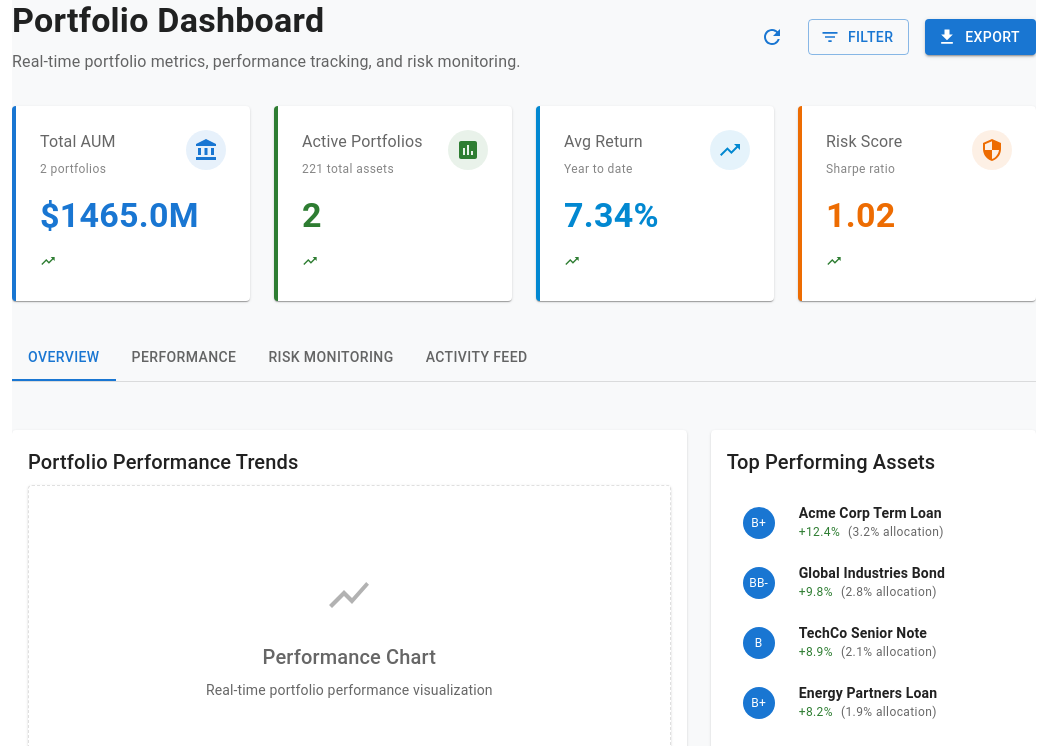
PortfolioDashboard › displays performance summary in Performance tab
Step 1. Click the tab "Performance" → {"x": 184, "y": 358}, box [116,334,252,382]
(page scrolled)
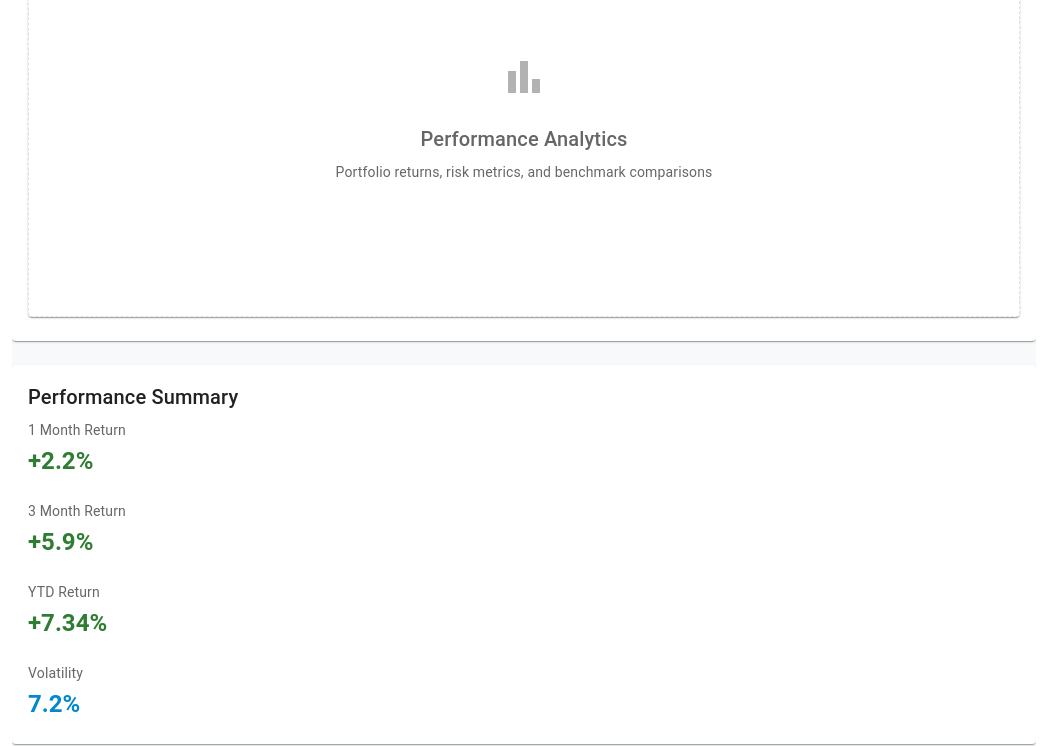
Expected: the heading "Performance Summary" is shown, [28,386,238,410]
Expected: the text "1 Month Return" is shown, [28,422,126,438]
Expected: the text "3 Month Return" is shown, [28,503,126,519]
